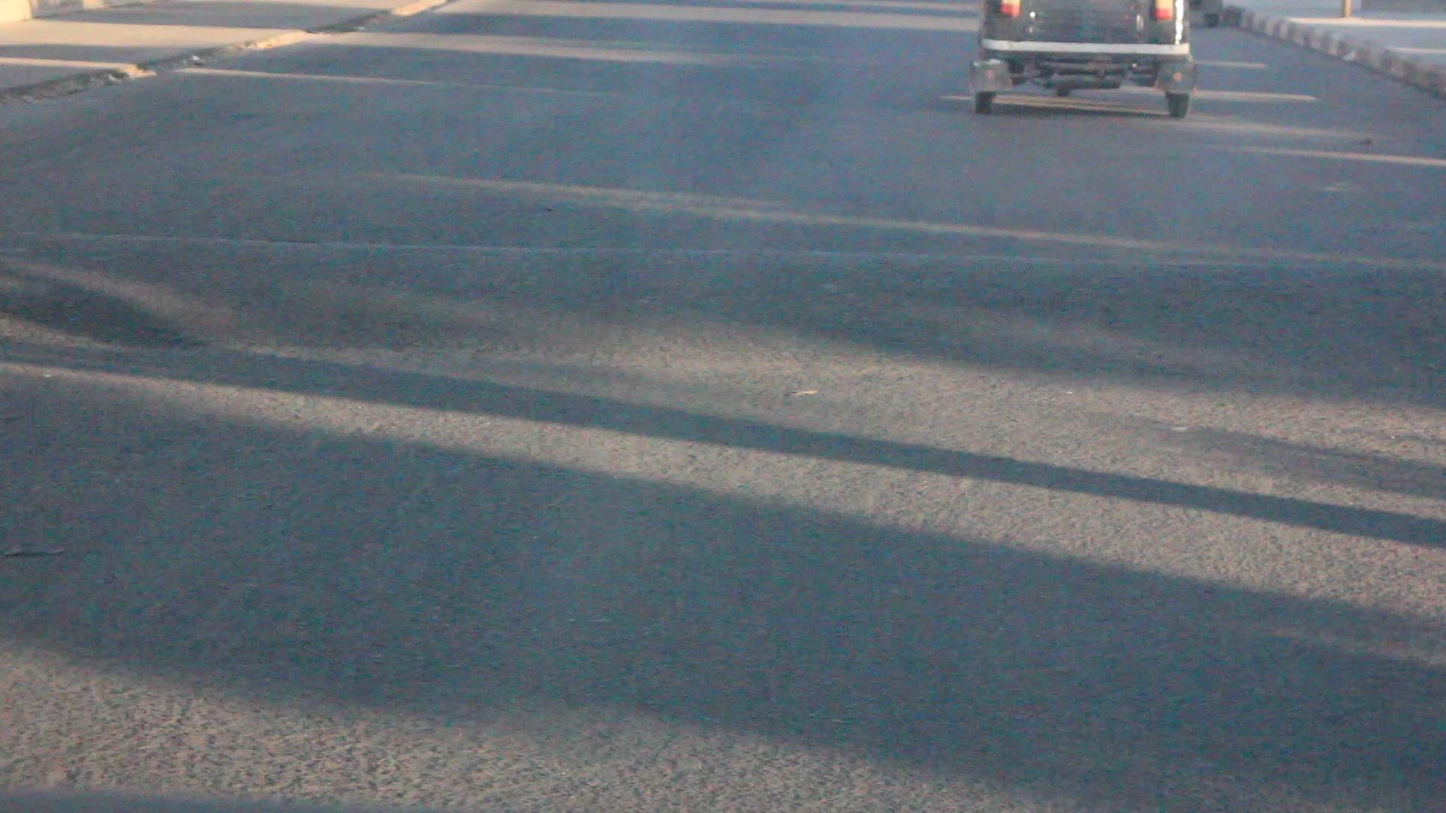Bump: (19, 237, 1446, 341)
